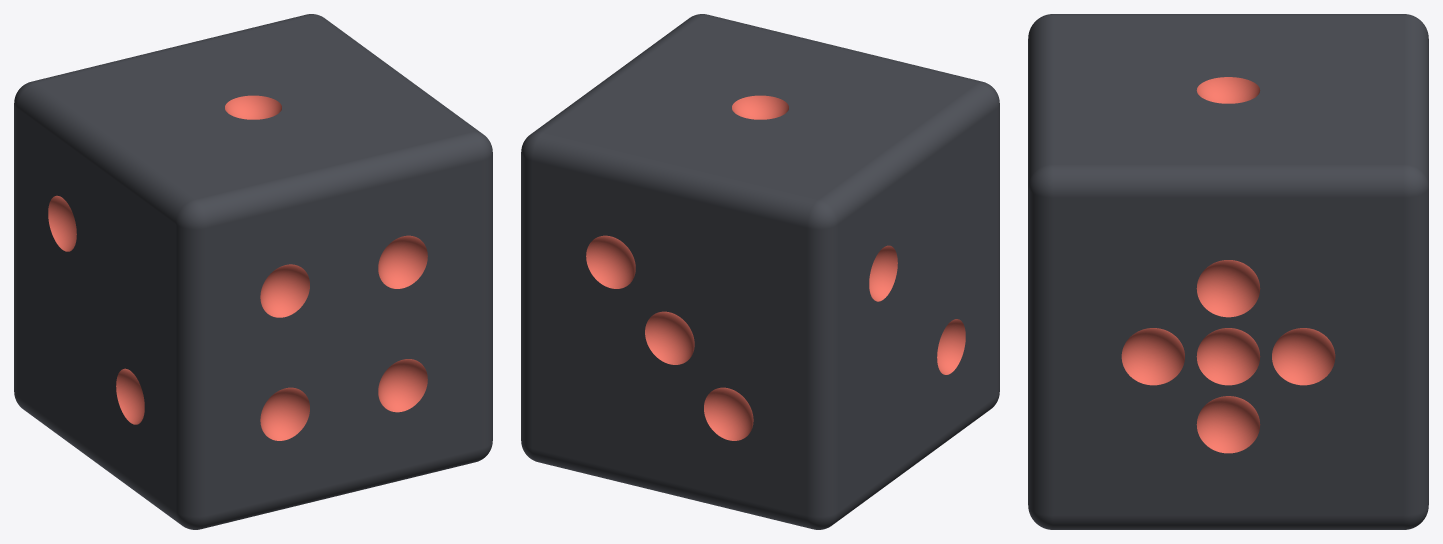
File: cad-d6.glb
The picture shows the model from 3 angles, left to right: view 1: azimuth 30°, elevation 25°; view 2: azimuth 150°, elevation 25°; view 3: azimuth 270°, elevation 25°; orthographic projection. The views are drawn at different scales.
Parts seen in each view (by area): view 1: cad-d6; view 2: cad-d6; view 3: cad-d6.
Part boxes in pixels (bbox=[...]): cad-d6: bbox=[14, 14, 492, 529]; cad-d6: bbox=[521, 14, 999, 529]; cad-d6: bbox=[1028, 14, 1428, 529].
Bounding box in the file's own units: 16 × 16 × 16.
